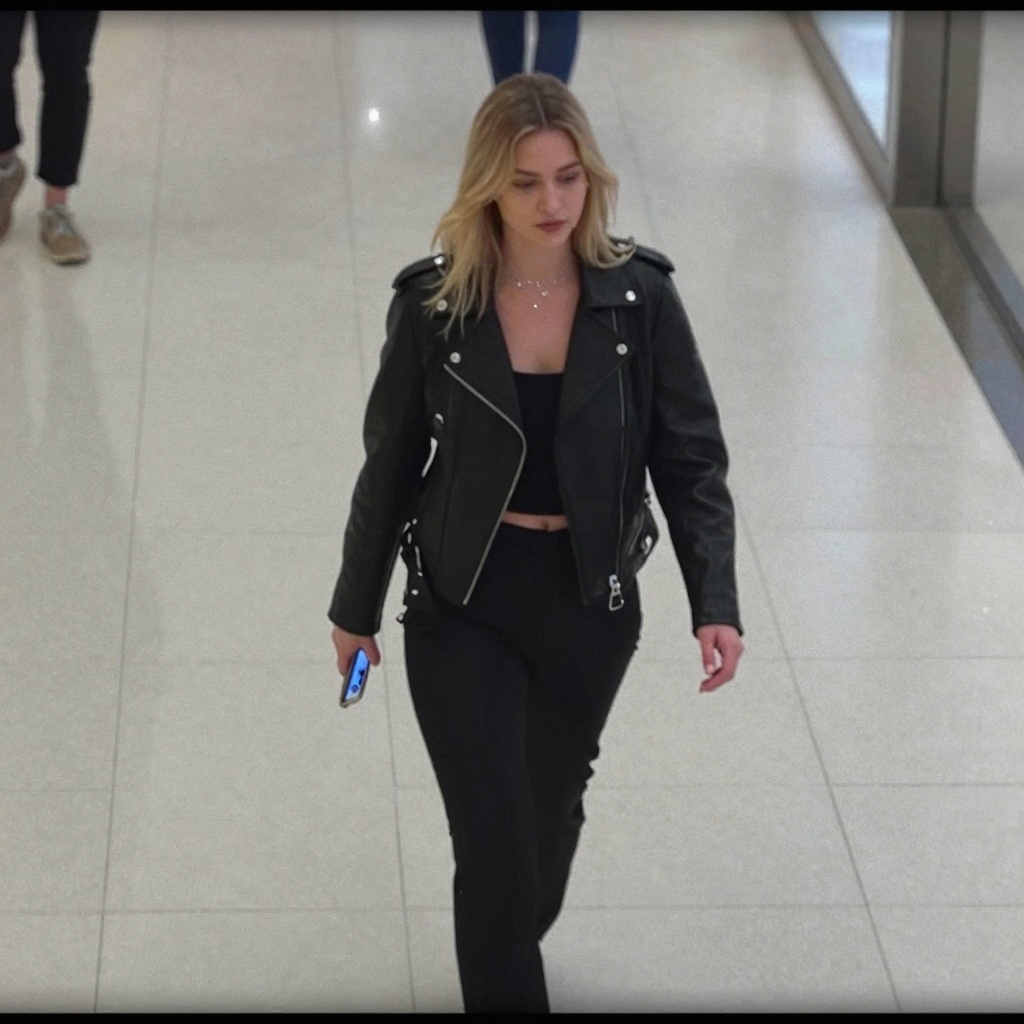Normal activity: (325, 70, 745, 1004), (0, 10, 100, 266)
